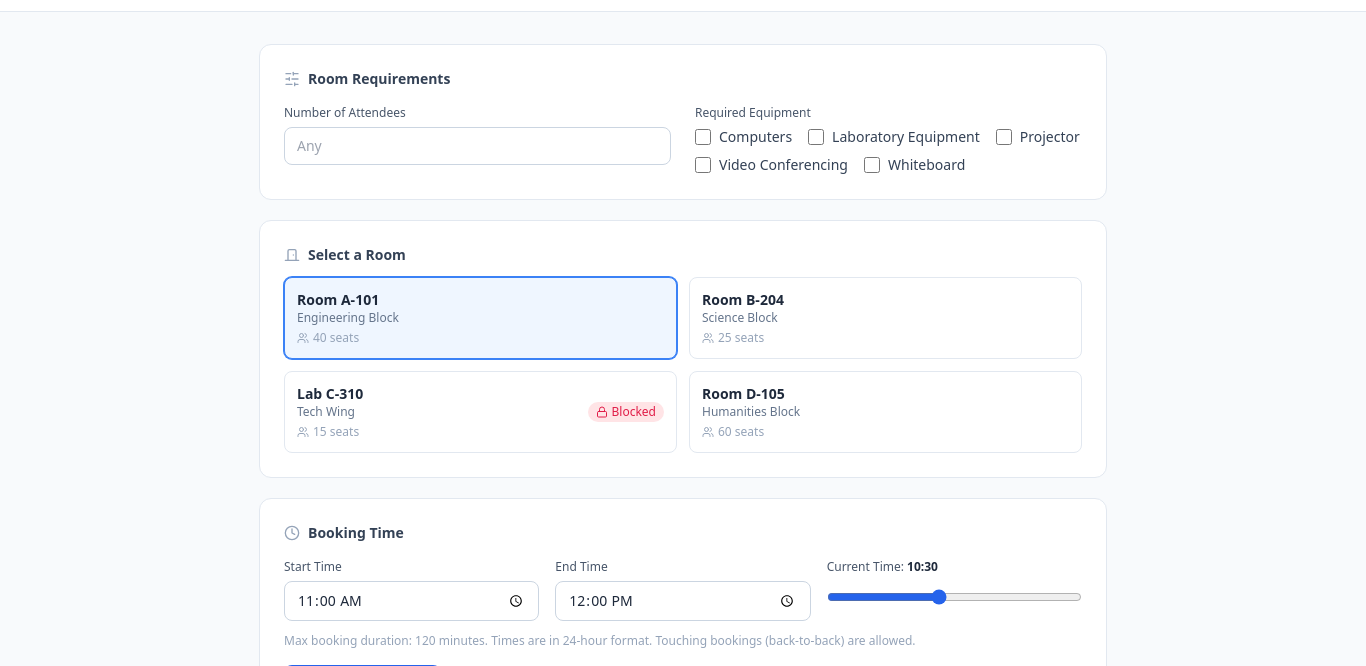
Test: App availability UI › U02 — a blocked room shows an Unavailable result with the Room Blocked reason
Type "10" into the number field labelled "Number of Attendees" at (478,146), box [284, 127, 671, 165]
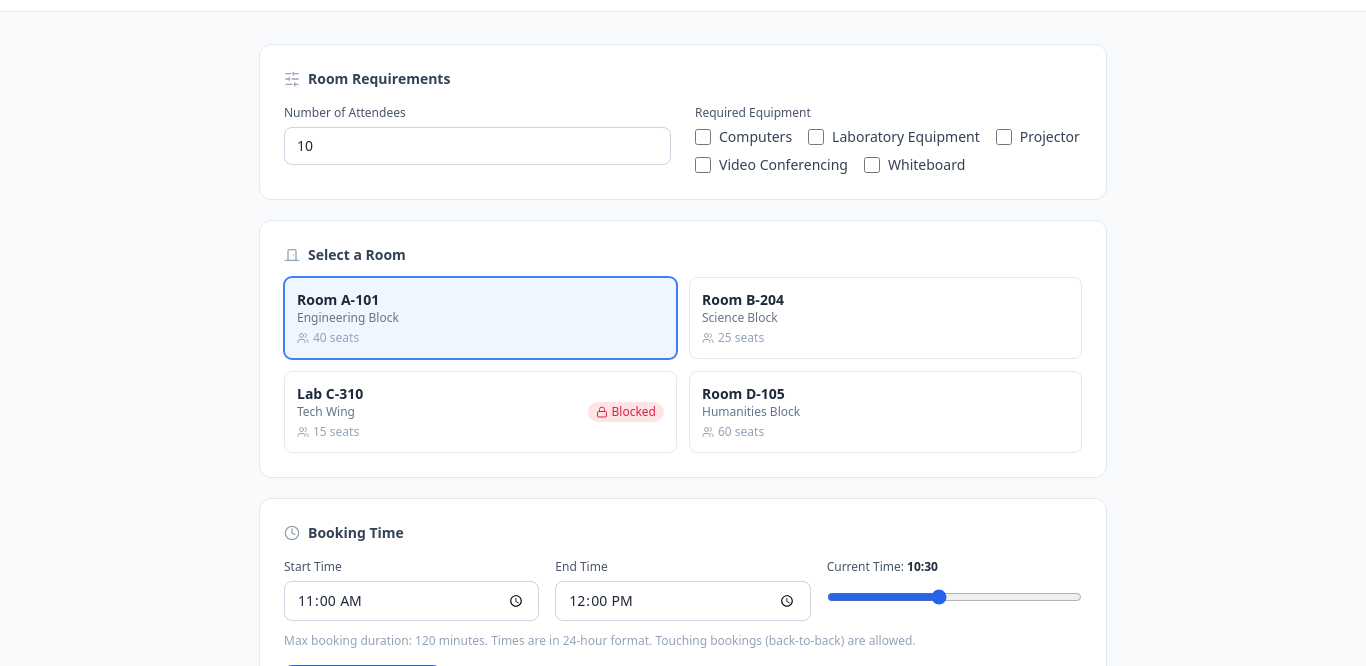
Click the checkbox labelled "Computers" at (703,137), box [695, 129, 711, 145]
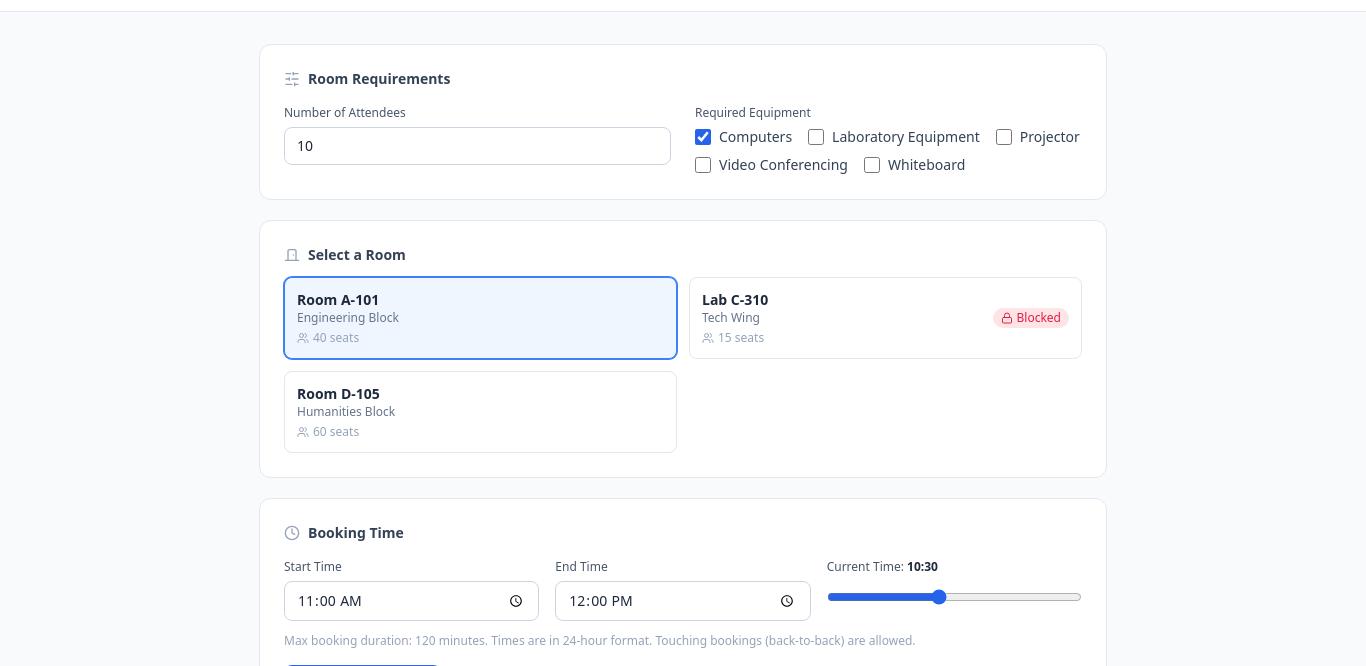
Click the button "Lab C-310 Tech Wing 15 seats Blocked" at (735,300), box [689, 277, 1082, 359]
(page scrolled)
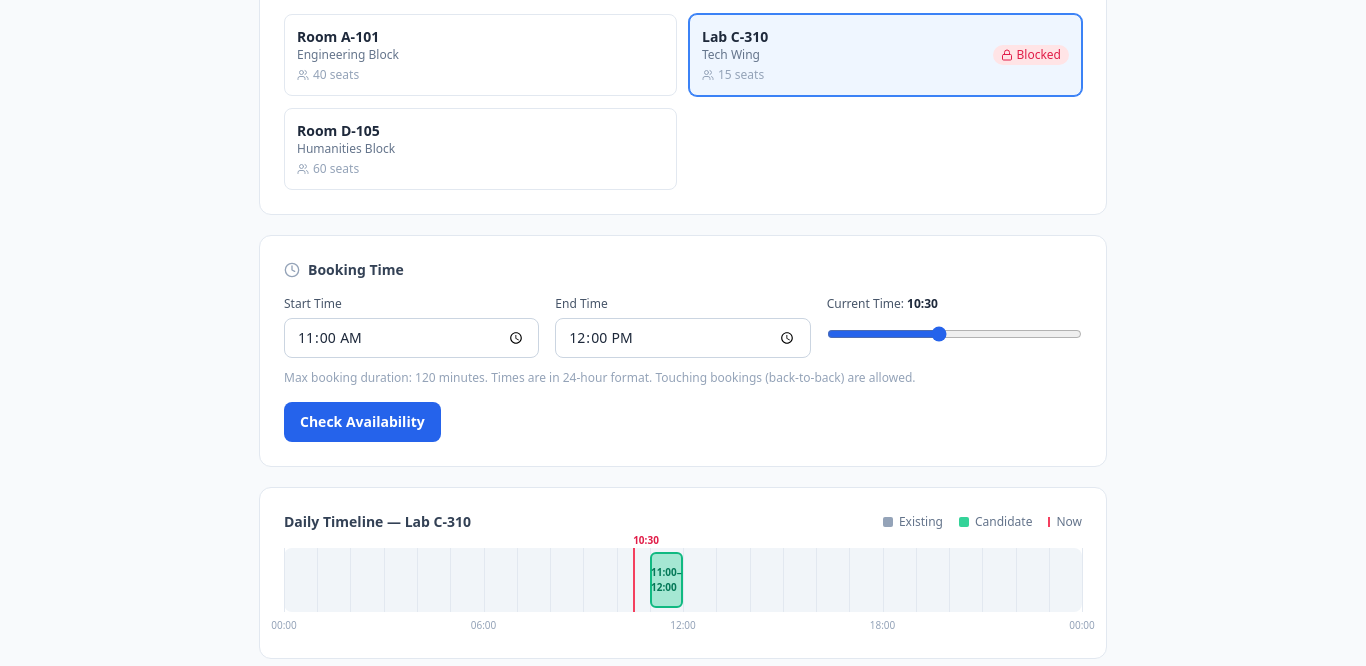
Click the button "Check Availability" at (362,422), box [284, 402, 441, 442]
(page scrolled)
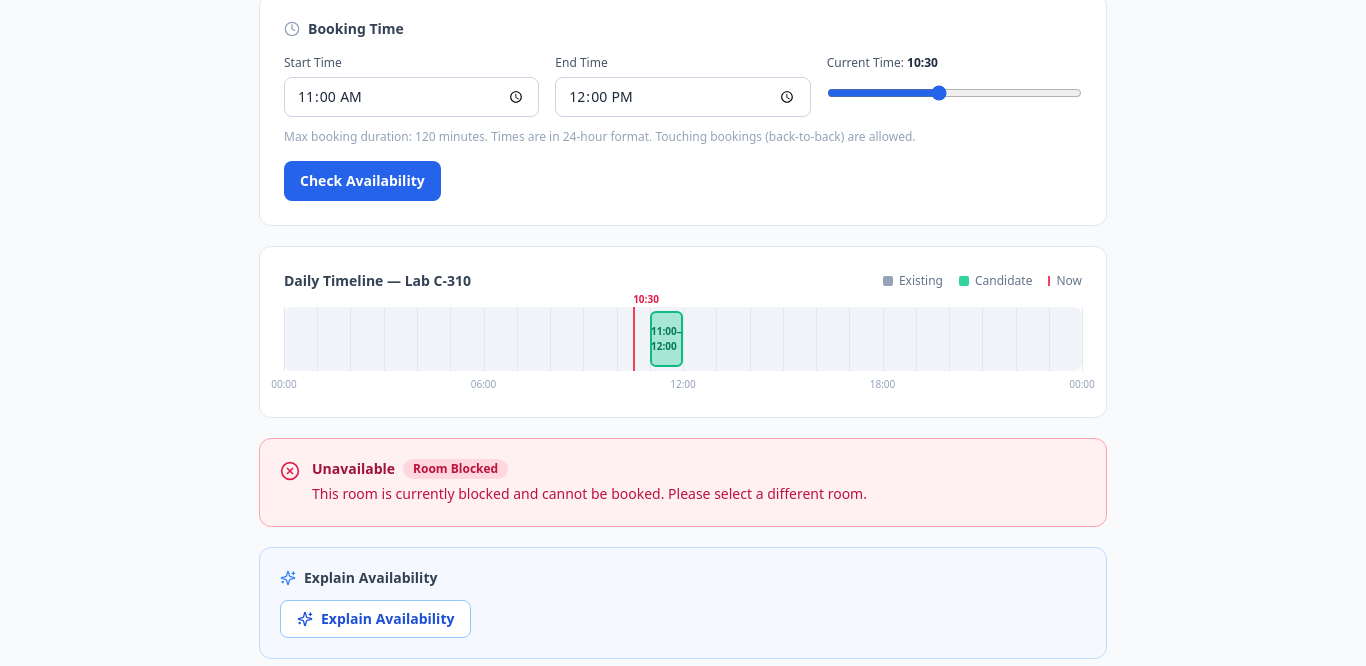
Expected: the text "Unavailable" is shown, [312, 459, 395, 479]
Expected: the text "Room Blocked" is shown, [403, 459, 508, 479]
